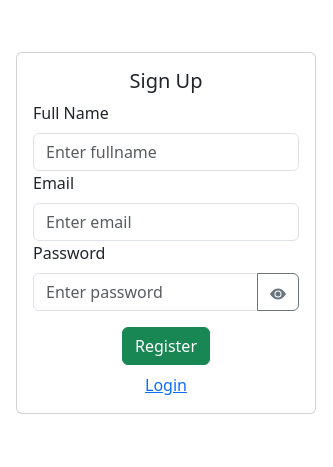
Register component › does not submit the form with invalid data
Click the button "Register".
click(166, 346)  # box left=122, top=327, right=210, bottom=365
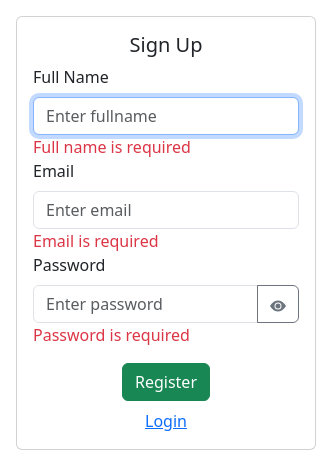
Expected: the text "Full name is required" is shown, left=33, top=136, right=191, bottom=158
Expected: the text "Email is required" is shown, left=33, top=230, right=158, bottom=252
Expected: the text "Password is required" is shown, left=33, top=324, right=190, bottom=346
